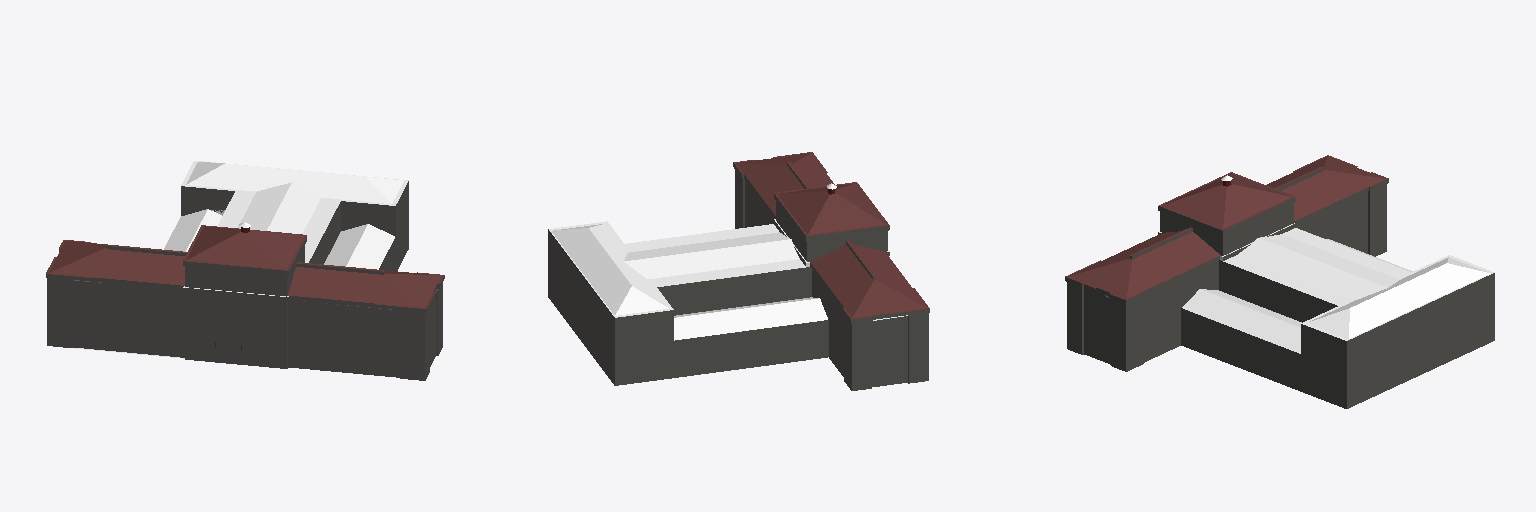
Rendered from BuuDienThanhPho.obj.
3 views of the same model, side by side, from view 1: azimuth 30°, elevation 25°; view 2: azimuth 150°, elevation 25°; view 3: azimuth 270°, elevation 25° (orthographic).
Visible parts, largest first — view 1: Mesh1 Buudienthanhpho1 Model; view 2: Mesh1 Buudienthanhpho1 Model; view 3: Mesh1 Buudienthanhpho1 Model.
Boxes of the visible parts, <box> form: Mesh1 Buudienthanhpho1 Model: <box>46,161,444,380</box>; Mesh1 Buudienthanhpho1 Model: <box>548,152,929,390</box>; Mesh1 Buudienthanhpho1 Model: <box>1065,155,1494,408</box>.
Bounding box in the file's own units: 3014 × 966 × 3013.